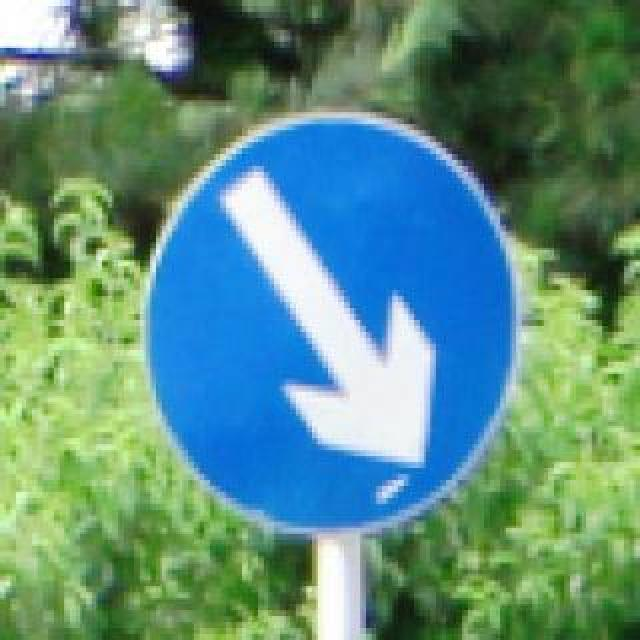keep right: (130, 102, 522, 540)
